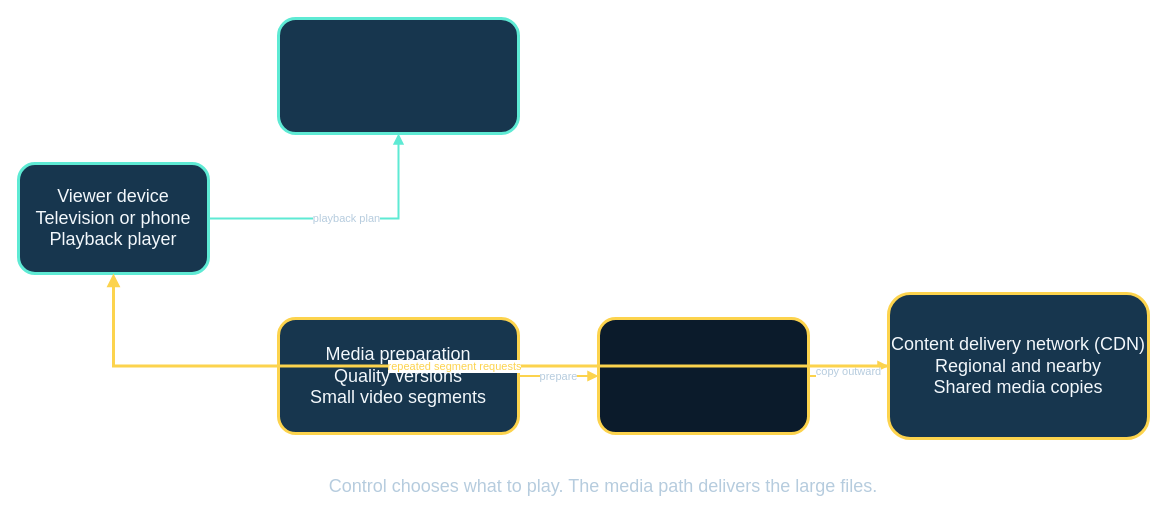
Image size: 1167x521. Some labels were removed from this diagram. Each missing label, with the centre of its shape:
Account and catalog services Sign-in • title details • playback plan: (x=398, y=75)
Origin storage Complete library Authoritative media: (x=703, y=375)
